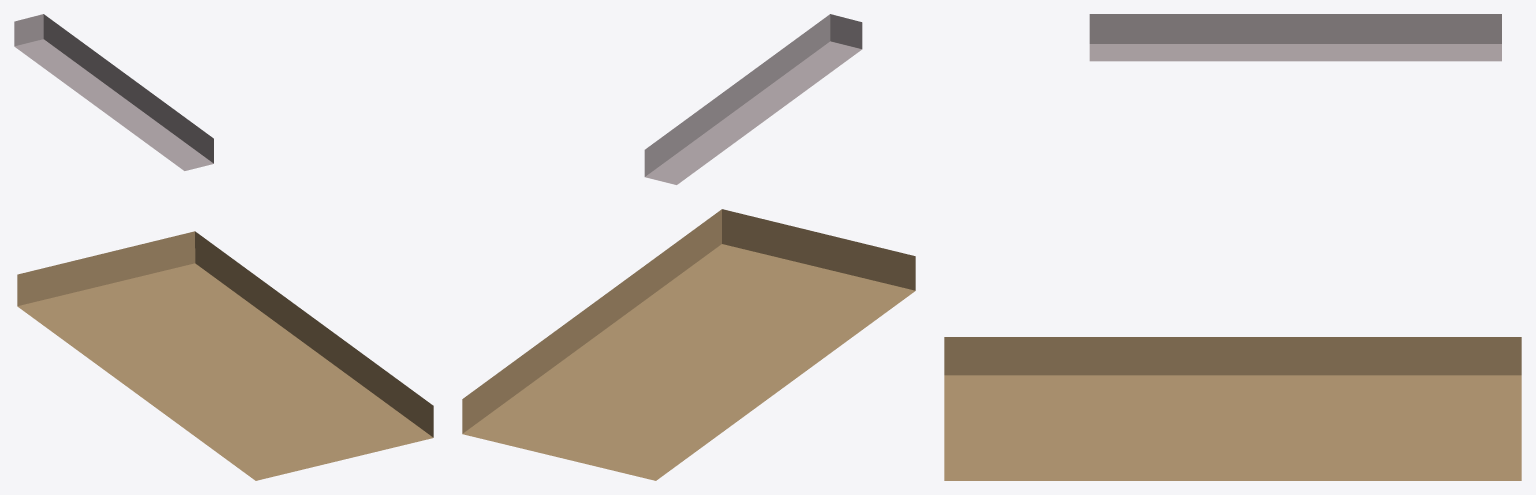
The picture shows the model from 3 angles, left to right: view 1: azimuth 30°, elevation 25°; view 2: azimuth 150°, elevation 25°; view 3: azimuth 270°, elevation 25°; orthographic projection. The views are drawn at different scales.
Visible parts, largest first — view 1: 0_2_0_1_1_2_1_0_3_0; view 2: 0_2_0_1_1_2_1_0_3_0; view 3: 0_2_0_1_1_2_1_0_3_0.
Boxes of the visible parts, x1,y1,x2,y2 form: 0_2_0_1_1_2_1_0_3_0: (14,14,433,480); 0_2_0_1_1_2_1_0_3_0: (462,14,915,480); 0_2_0_1_1_2_1_0_3_0: (944,14,1521,480).
Size of the model in its own units: 9.61 by 14.28 by 21.
